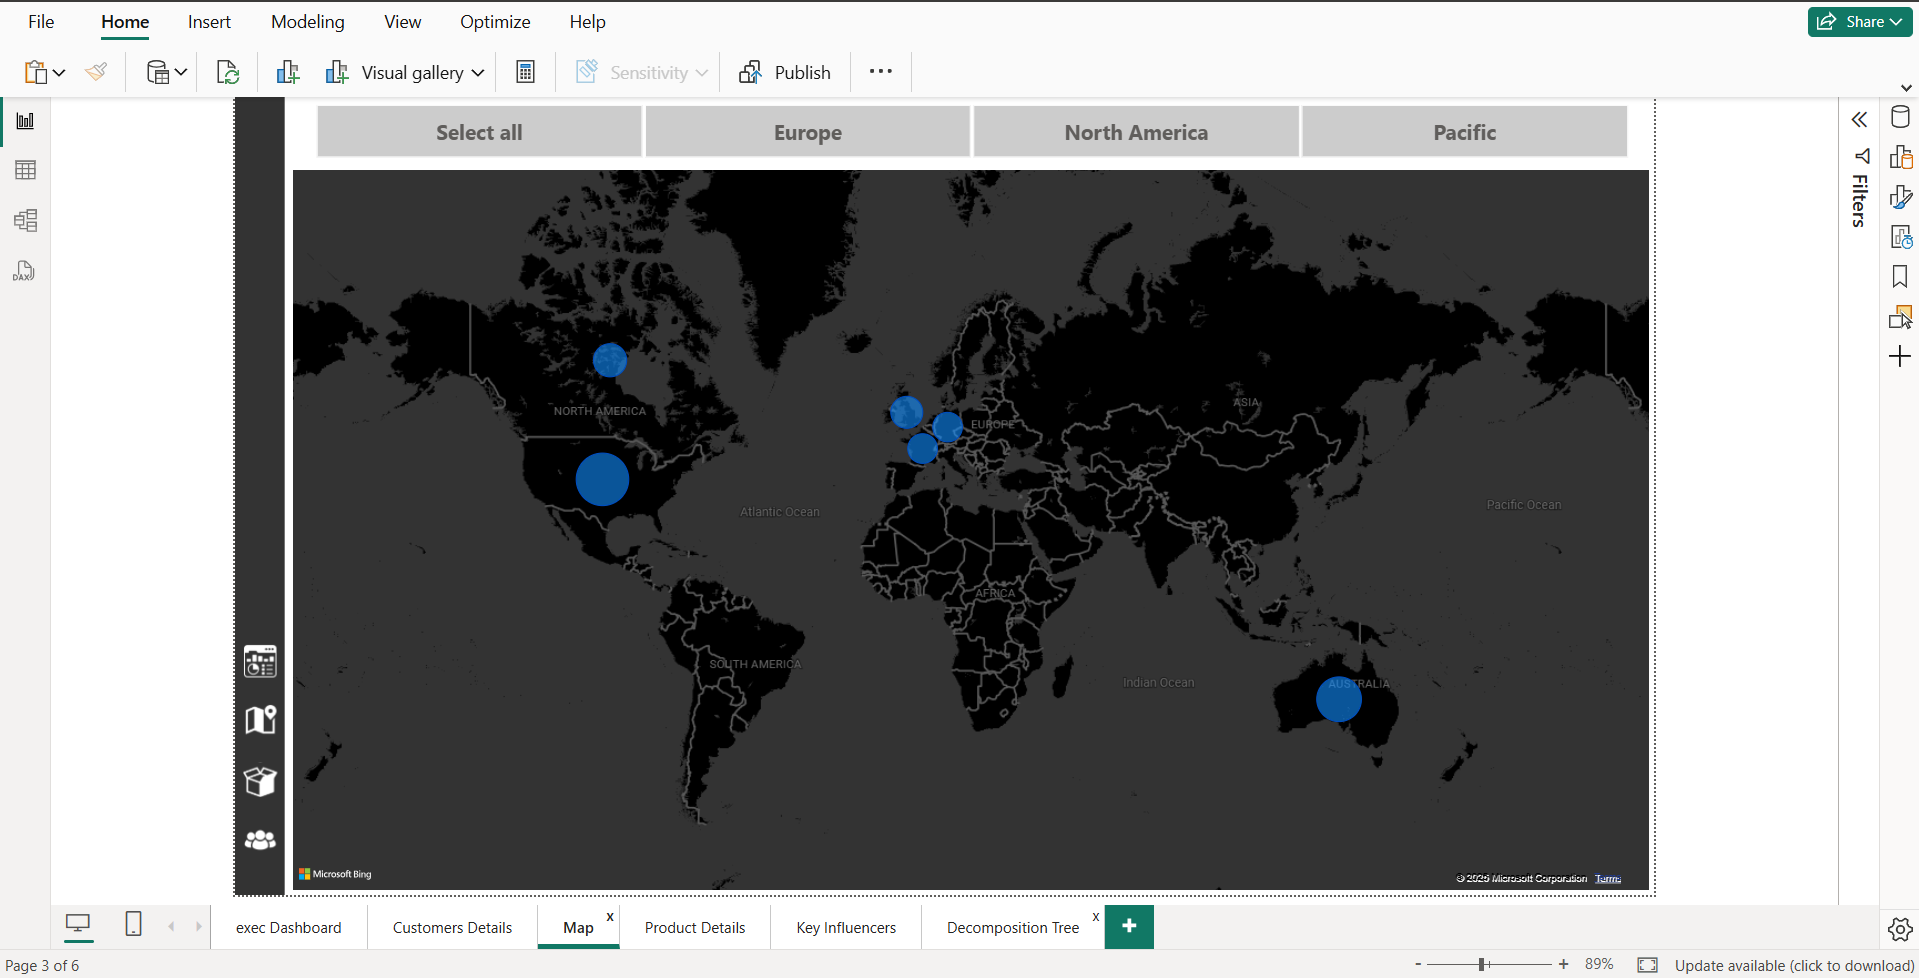

The dashboard page shown, as its layout file describes it:
{"tool":"powerbi","page":{"name":"Map","canvas":[1280,720],"ordinal":2},"visuals":[{"type":"map","fields":{"Category":["Territory_Lookup.Country"],"Size":["Table Measures.Total Orders"]},"box":[47.7,61.1,1232.6,659.1],"z":0},{"type":"actionButton","box":[0,489.1,45.2,39.1],"z":0,"group":"g1"},{"type":"slicer","fields":{"Values":["Territory_Lookup.Continent"]},"box":[47.7,0,1232.6,61.1],"z":1000},{"type":"actionButton","box":[0,542.9,45.2,39.1],"z":1000,"group":"g1"},{"type":"shape","title":"left nav","box":[0,0,45,720],"z":1001},{"type":"group","id":"g1","title":"navigation buttons","box":[0,489.1,45.2,200.5],"z":1002},{"type":"actionButton","box":[0,650.5,45.2,39.1],"z":2000,"group":"g1"},{"type":"actionButton","box":[0,596.7,45.2,39.1],"z":3000,"group":"g1"}]}

Visuals, with their boxes on the page's 1280x720 design canvas (x1, y1, x2, y2). These are canvas units, not pixel positions in the 1919x978 screenshot, which may show the page scaled, cropped or inside an application window:
map - Territory_Lookup.Country x Table Measures.Total Orders: box=[48, 61, 1280, 720]
actionButton: box=[0, 489, 45, 528]
slicer - Territory_Lookup.Continent: box=[48, 0, 1280, 61]
actionButton: box=[0, 543, 45, 582]
"left nav" shape: box=[0, 0, 45, 720]
"navigation buttons" group: box=[0, 489, 45, 690]
actionButton: box=[0, 650, 45, 690]
actionButton: box=[0, 597, 45, 636]
